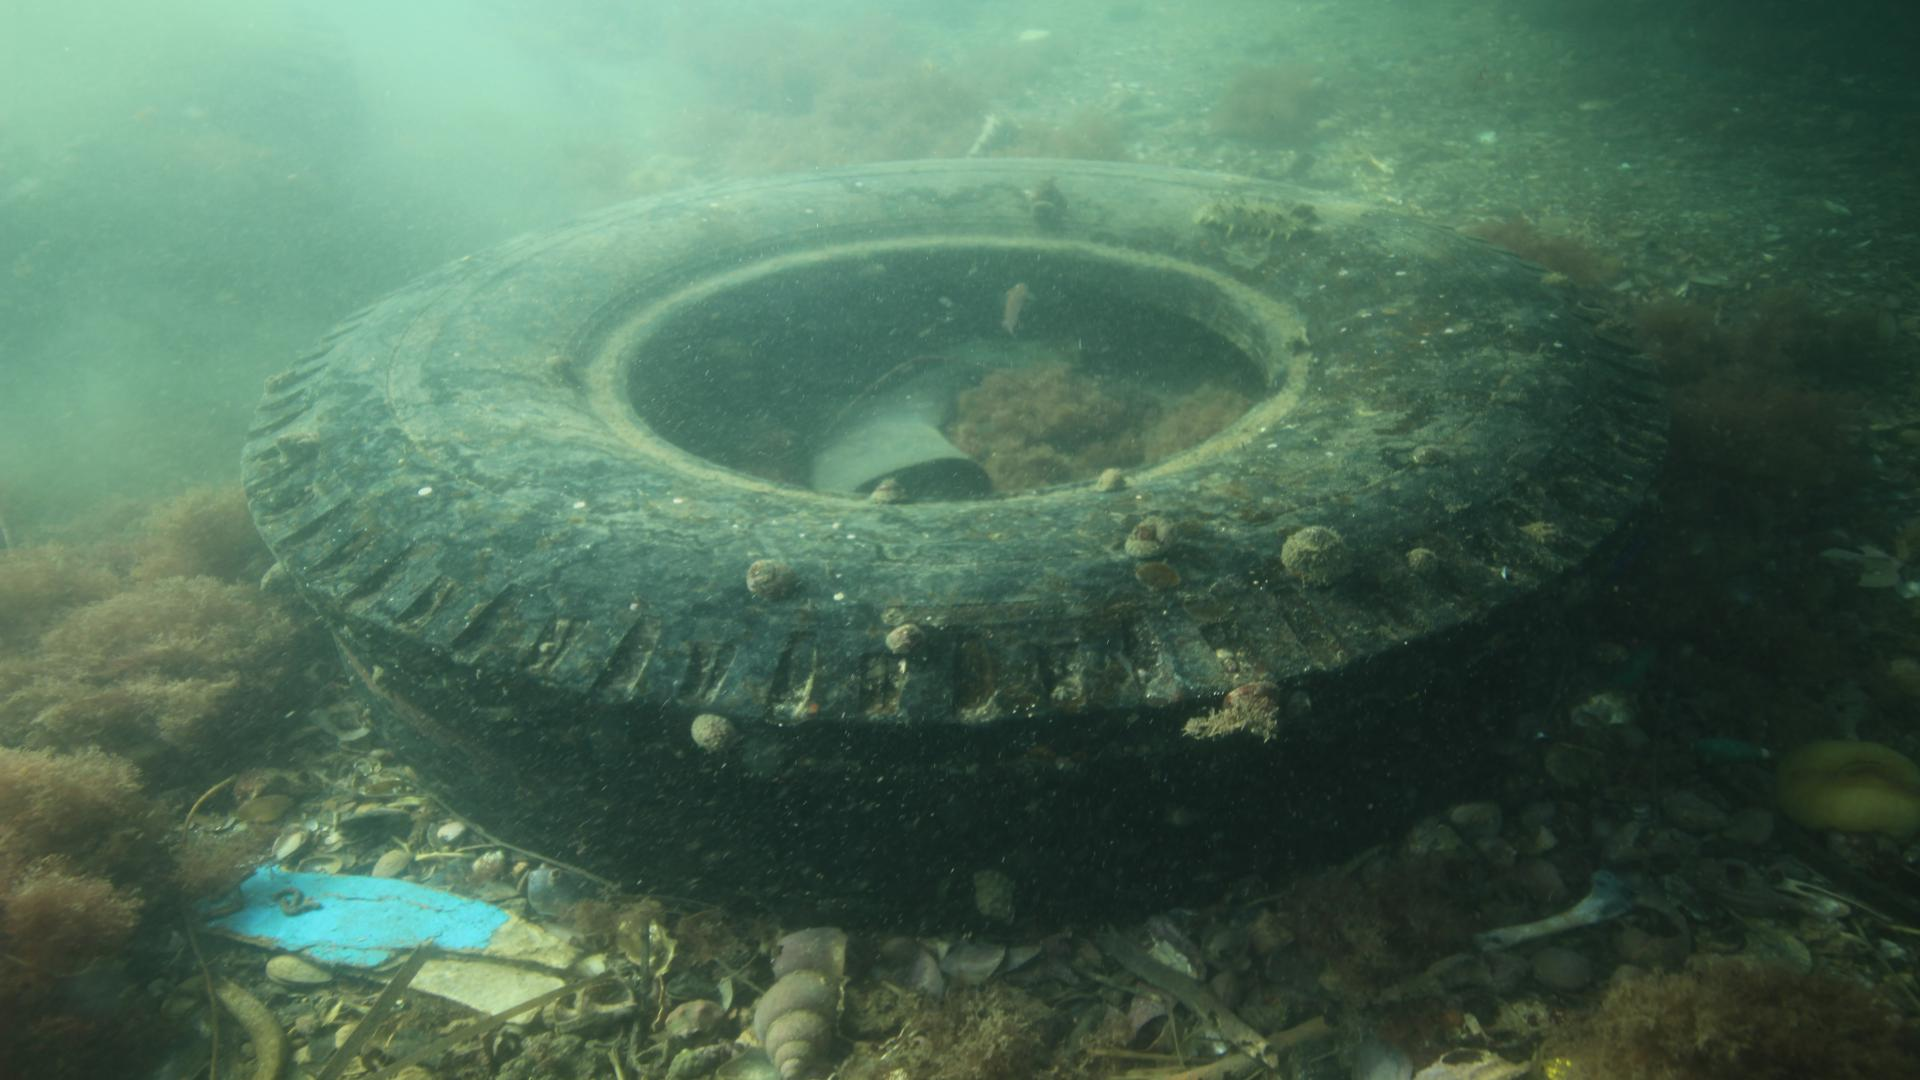tire: (239, 156, 1675, 934)
